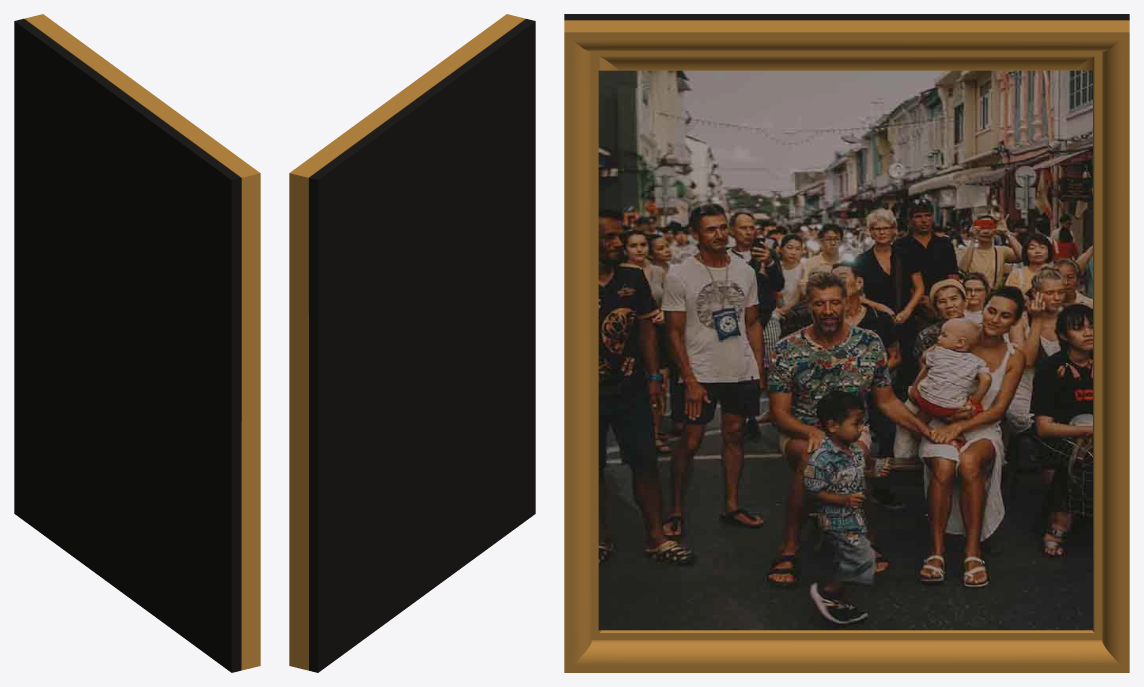
3 views of the same model, side by side, from view 1: azimuth 30°, elevation 25°; view 2: azimuth 150°, elevation 25°; view 3: azimuth 270°, elevation 25° (orthographic). The views are drawn at different scales.
Parts seen in each view (by area): view 1: frame.001_3.002, back panel.001_2.002; view 2: frame.001_3.002, back panel.001_2.002; view 3: frame.001_3.002, back panel.001_2.002.
Boxes of the visible parts, x1,y1,x2,y2 form: frame.001_3.002: (14, 18, 241, 672); back panel.001_2.002: (24, 14, 260, 670); frame.001_3.002: (308, 19, 535, 672); back panel.001_2.002: (289, 14, 525, 670); frame.001_3.002: (564, 14, 1129, 630); back panel.001_2.002: (564, 20, 1129, 672).
Size of the model in its own units: 1.05 by 17.11 by 13.69.
3 materials, 1 textured.
